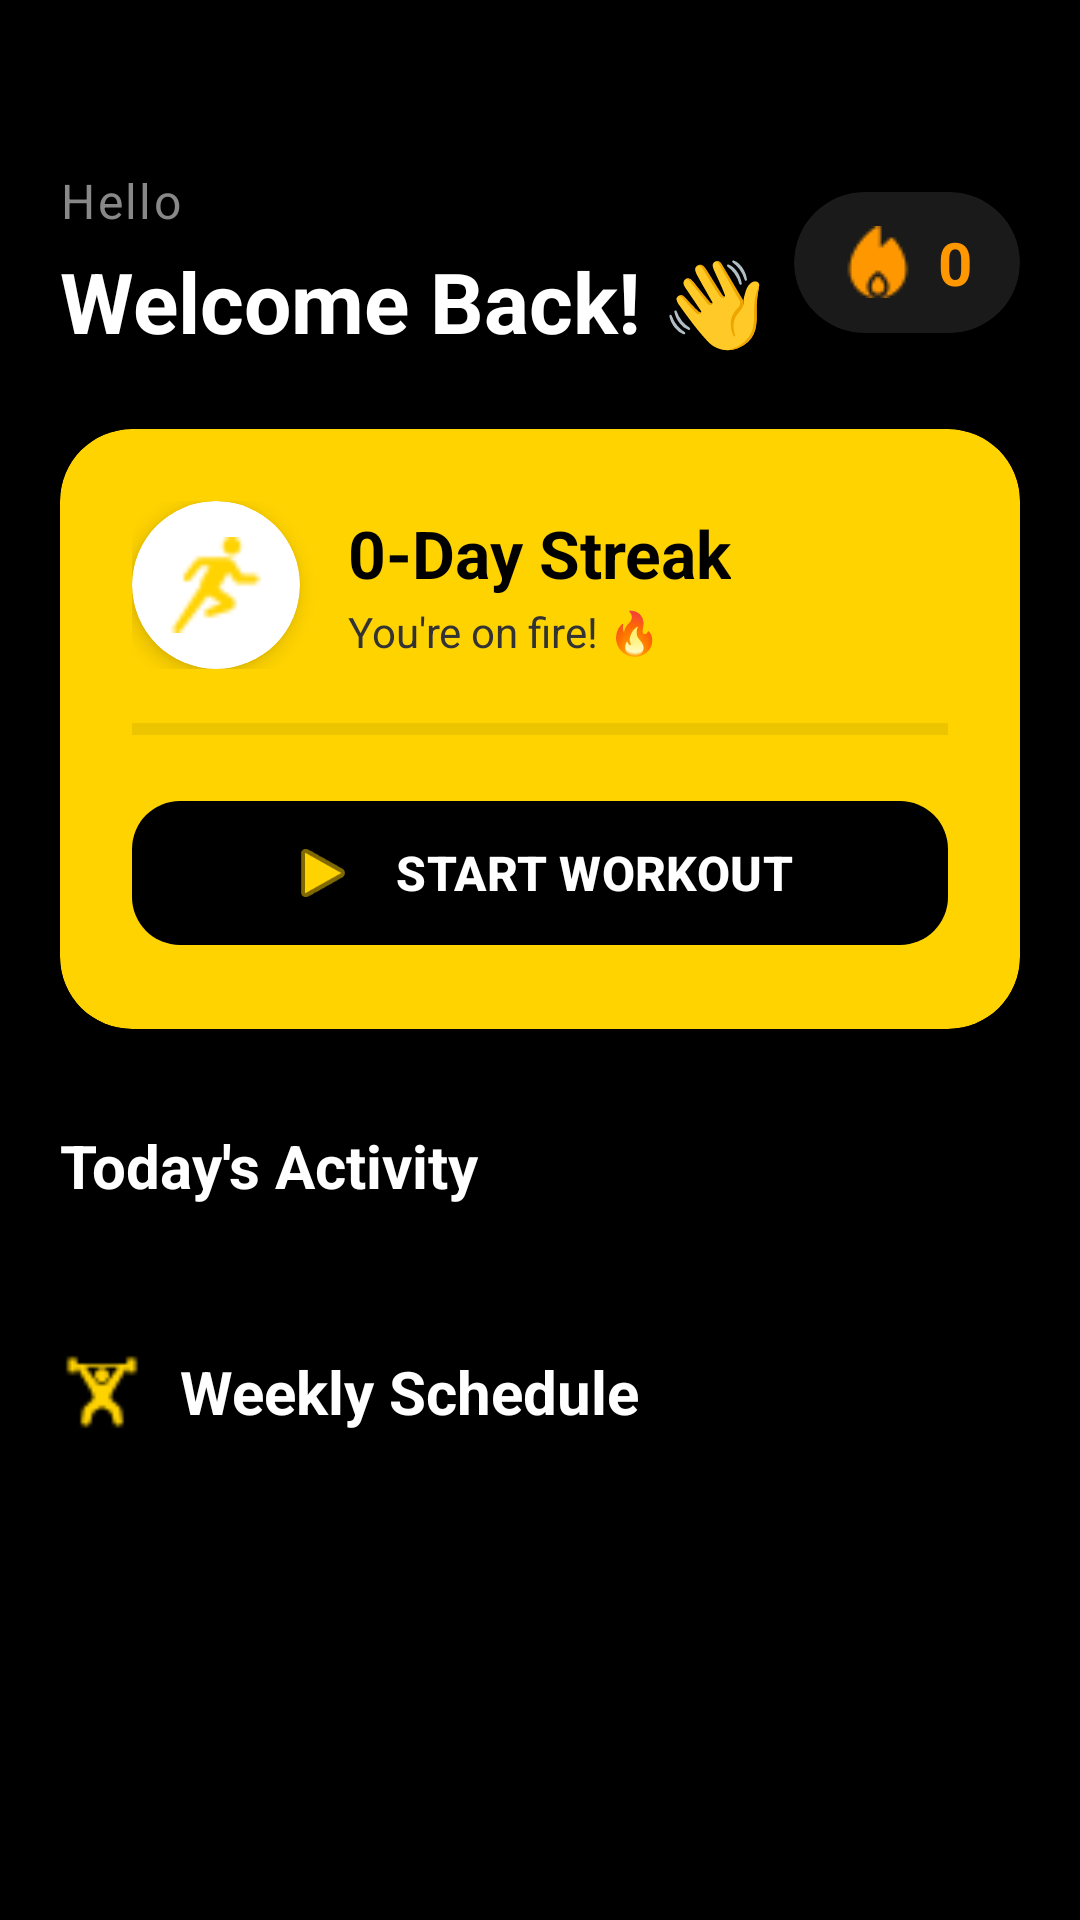

Screen size 1080px×1920px. Icon name, then its box in pixels as (x1, y1, x2, y2):
calories: (847, 226, 909, 298)
running: (132, 501, 300, 669)
workout: (66, 1356, 138, 1428)
